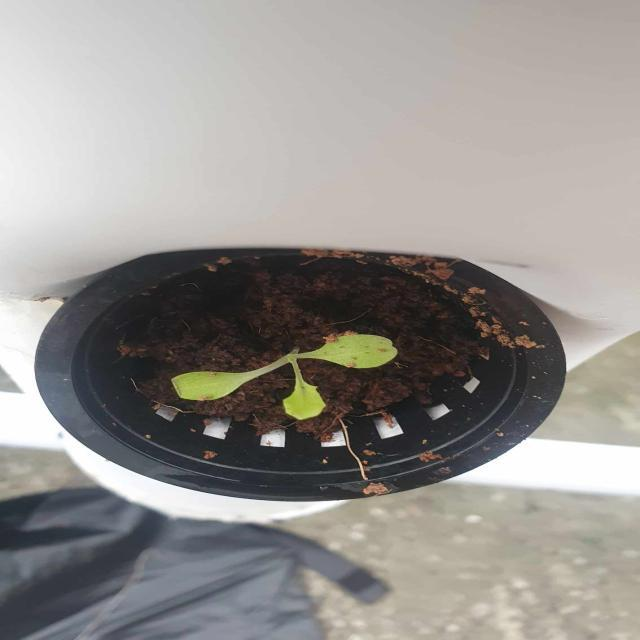Lettuce-Not-Ready-to-Harvest: (165, 326, 400, 434)
